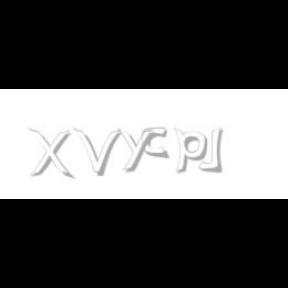J: (198, 128, 222, 172)
V: (73, 128, 121, 176)
X: (28, 128, 72, 180)
c: (142, 128, 170, 160)
p: (174, 128, 212, 174)
y: (117, 128, 157, 172)
